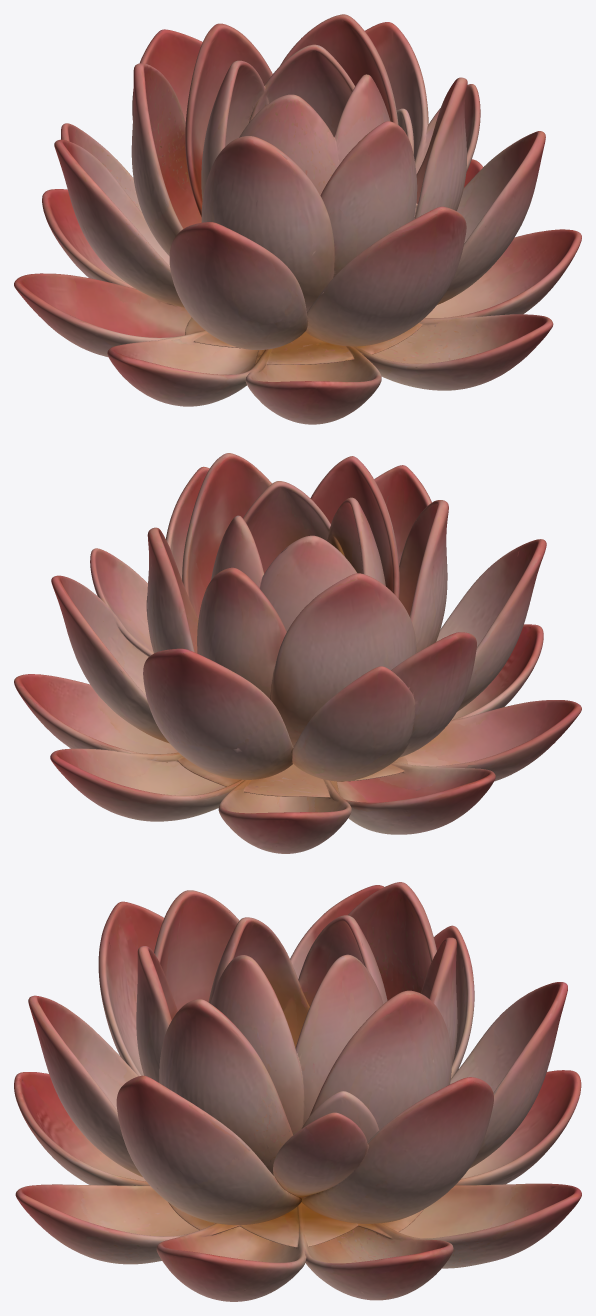
File: hoa+sen+model.glb
3 views of the same model, one above another, from view 1: azimuth 30°, elevation 25°; view 2: azimuth 150°, elevation 25°; view 3: azimuth 270°, elevation 25° (orthographic). The views are drawn at different scales.
Parts seen in each view (by area): view 1: node_0; view 2: node_0; view 3: node_0.
Boxes of the visible parts, box(x1,y1,x2,y2) form: node_0: box(14, 14, 581, 424); node_0: box(14, 453, 581, 853); node_0: box(14, 882, 581, 1301).
Bounding box in the file's own units: 0.9001 × 0.5196 × 0.8776.
Materials: 1 (1 with a texture image).
